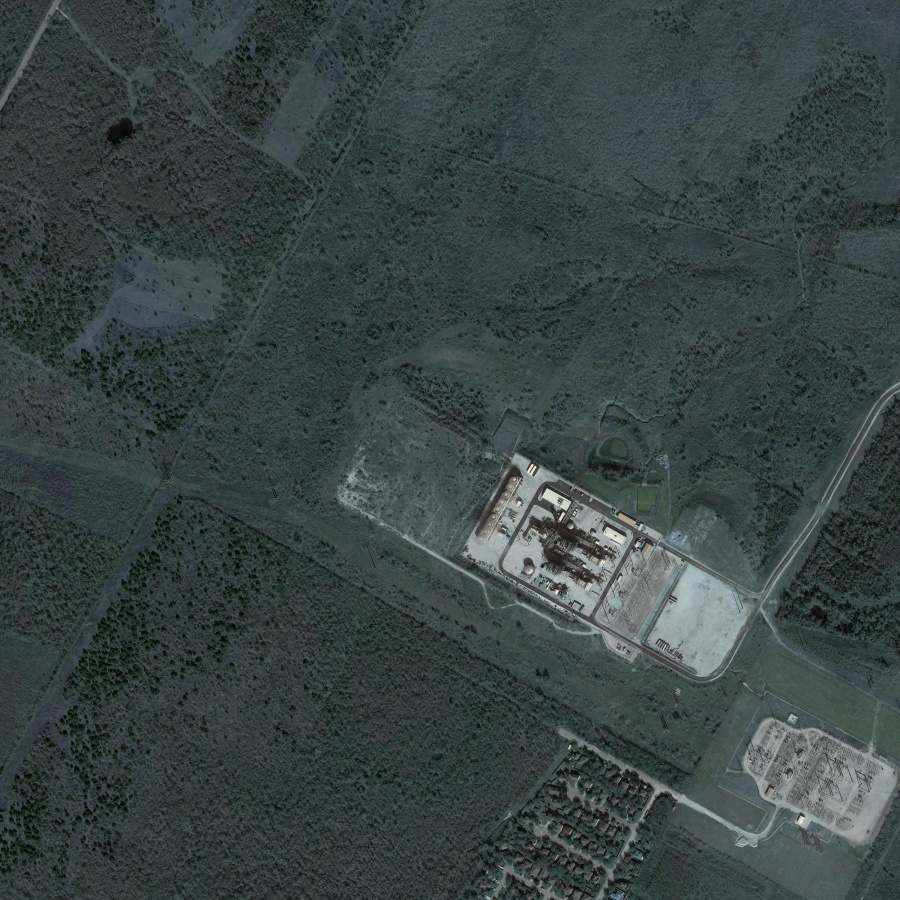PowerPlant: (466, 456, 676, 646), (740, 702, 886, 838)
